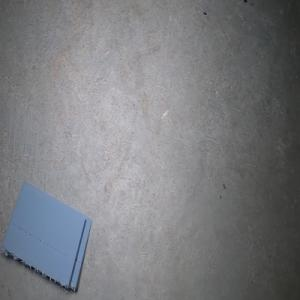PlasticPart: (0, 180, 92, 294)
